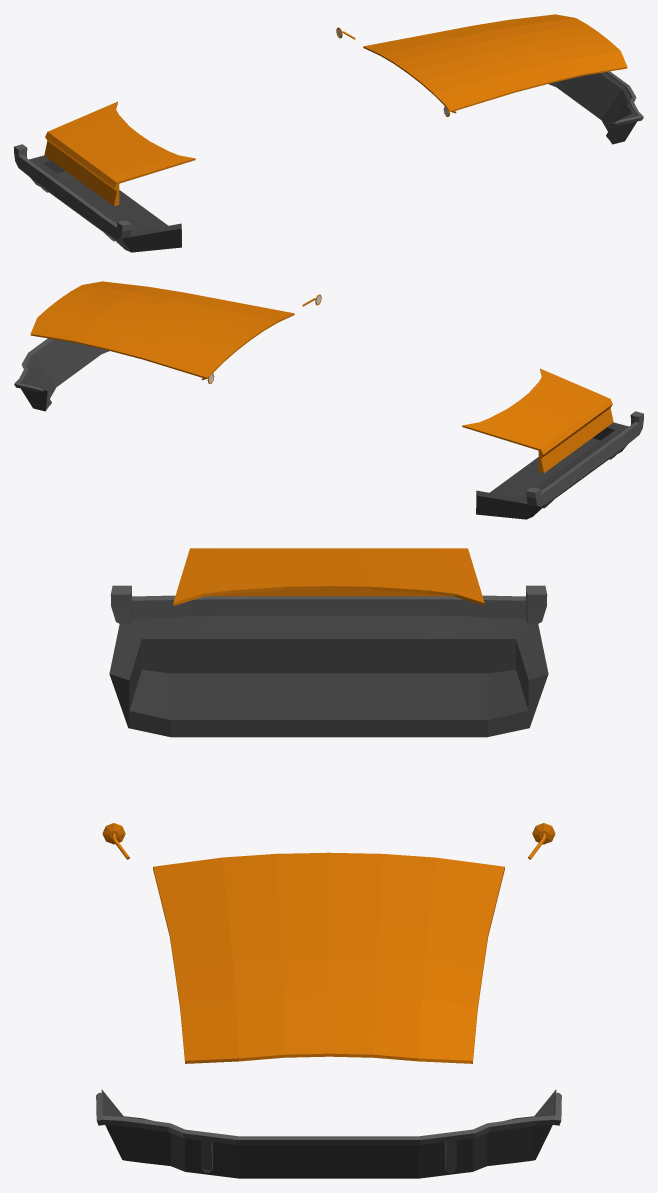
The model's file is MustangParts.fbx.
3 renders of one model, top to bottom at view 1: azimuth 30°, elevation 25°; view 2: azimuth 150°, elevation 25°; view 3: azimuth 270°, elevation 25°, orthographic. The views are drawn at different scales.
Visible parts, largest first — view 1: Hood, TrunkLid.001, RearBroken.001, FrontBroken.001, RearBumper.001, FrontBumper.001; view 2: Hood, TrunkLid.001, RearBroken.001, FrontBroken.001, RearBumper.001, FrontBumper.001; view 3: Hood, RearBroken.001, FrontBroken.001, TrunkLid.001, RearBumper.001, FrontBumper.001.
Boxes of the visible parts, <box> form: Hood: <box>363,14,627,110</box>; TrunkLid.001: <box>44,101,195,205</box>; RearBroken.001: <box>29,155,181,252</box>; FrontBroken.001: <box>548,72,637,144</box>; RearBumper.001: <box>14,144,131,241</box>; FrontBumper.001: <box>605,71,643,125</box>; Hood: <box>30,281,294,377</box>; TrunkLid.001: <box>462,368,613,472</box>; RearBroken.001: <box>476,422,628,519</box>; FrontBroken.001: <box>20,339,109,411</box>; RearBumper.001: <box>526,411,643,508</box>; FrontBumper.001: <box>14,338,52,392</box>; Hood: <box>153,852,504,1063</box>; RearBroken.001: <box>109,615,548,737</box>; FrontBroken.001: <box>101,1089,556,1178</box>; TrunkLid.001: <box>173,548,484,605</box>; RearBumper.001: <box>110,585,547,624</box>; FrontBumper.001: <box>96,1092,561,1172</box>.
Size of the model in its own units: 188 by 505 by 73.32.
